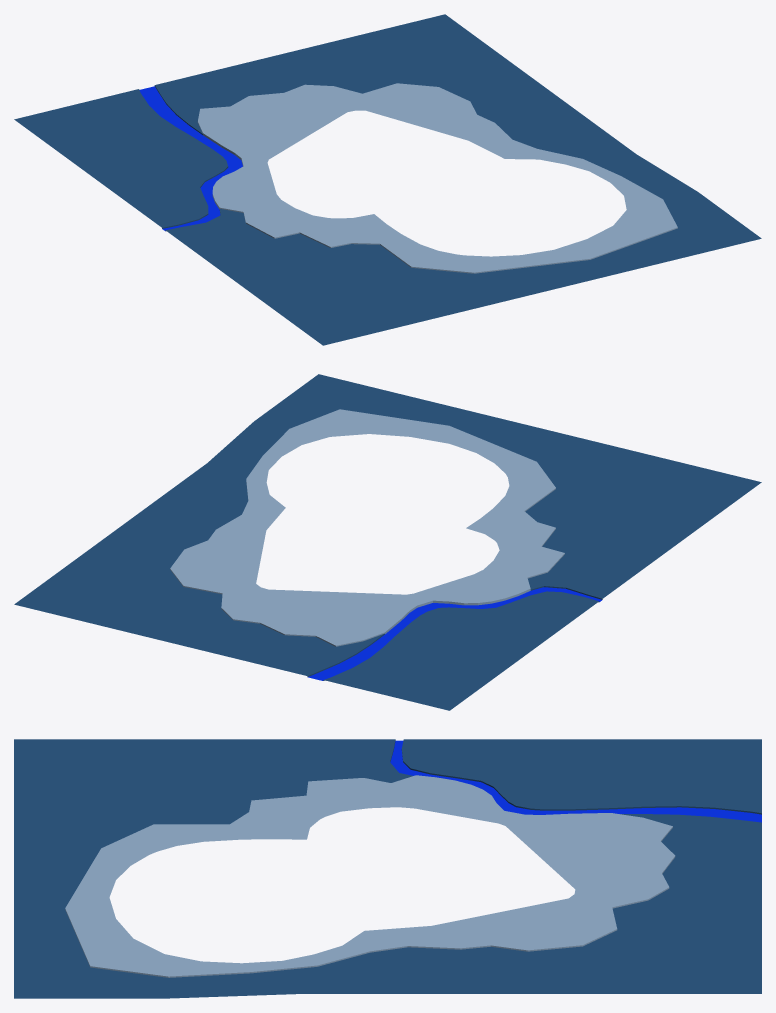
The model's file is around.fbx.
The picture shows the model from 3 angles, top to bottom: view 1: azimuth 30°, elevation 25°; view 2: azimuth 150°, elevation 25°; view 3: azimuth 270°, elevation 25°; orthographic projection. The views are drawn at different scales.
Visible parts, largest first — view 1: around02, around01, river; view 2: around02, around01, river; view 3: around02, around01, river.
Boxes of the visible parts, x1=… form: around02: x1=14, y1=14, x2=761, y2=345; around01: x1=197, y1=83, x2=677, y2=273; river: x1=139, y1=86, x2=242, y2=230; around02: x1=14, y1=374, x2=761, y2=710; around01: x1=170, y1=409, x2=564, y2=646; river: x1=308, y1=587, x2=601, y2=680; around02: x1=14, y1=739, x2=761, y2=998; around01: x1=65, y1=775, x2=675, y2=977; river: x1=390, y1=740, x2=761, y2=822.
Size of the model in its own units: 44005 by 387 by 53691.
